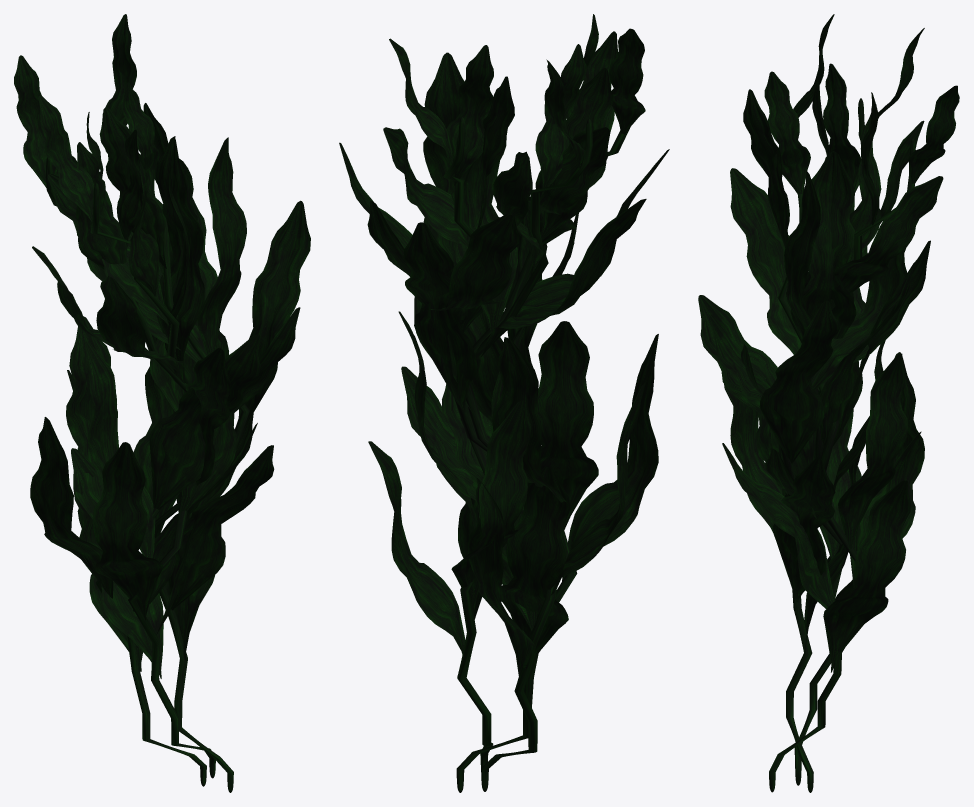
The model's file is seaweed0.obj.
3 views of the same model, side by side, from view 1: azimuth 30°, elevation 25°; view 2: azimuth 150°, elevation 25°; view 3: azimuth 270°, elevation 25° (orthographic). The views are drawn at different scales.
Visible parts, largest first — view 1: seaweed0; view 2: seaweed0; view 3: seaweed0.
Part boxes in pixels (box(x1,y1,x2,y2)): seaweed0: box(14, 14, 310, 792); seaweed0: box(339, 14, 669, 792); seaweed0: box(698, 14, 959, 792).
Bounding box in the file's own units: 0.7882 × 2 × 0.6754.
1 material, 1 textured.
